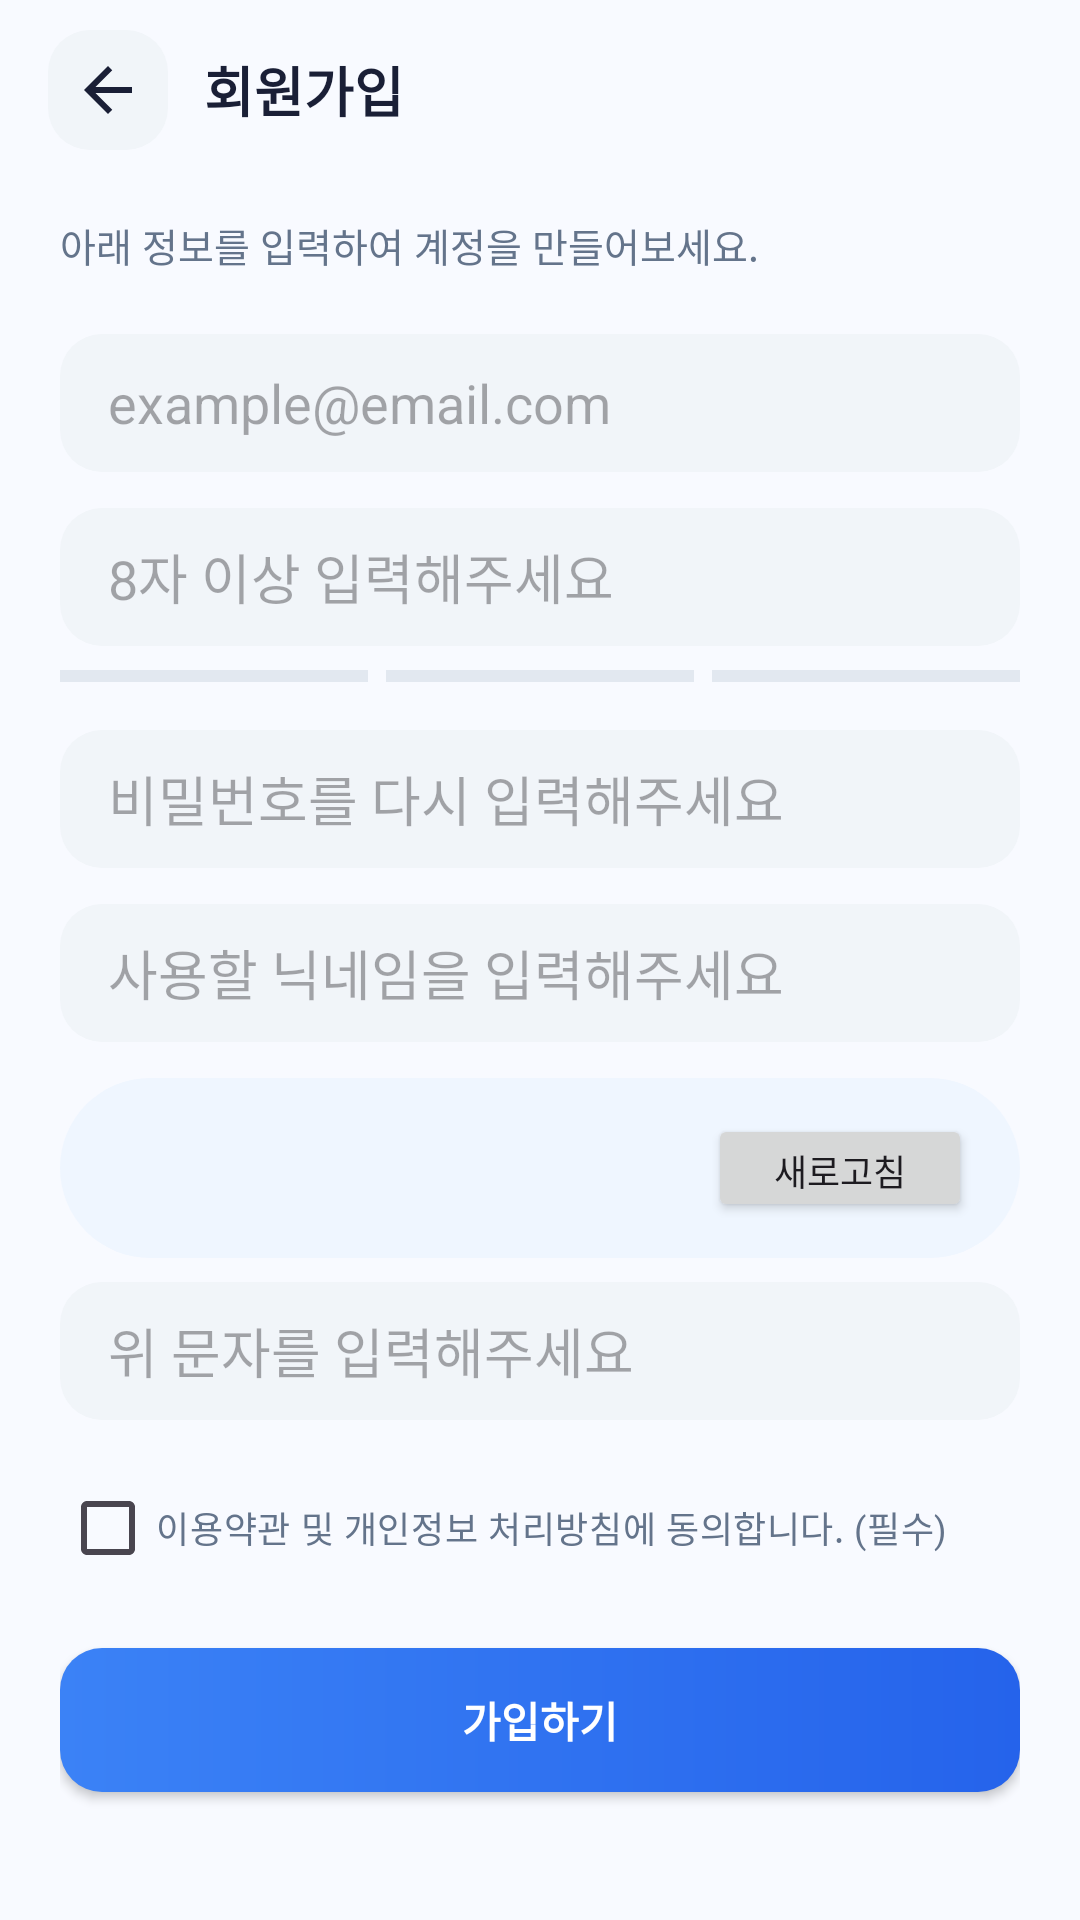

Screen size 1080 x 1920. Icon name, then its box in pixels as bbox=(x1, y1, x2, y2):
arrow back: bbox=(84, 66, 132, 114)
